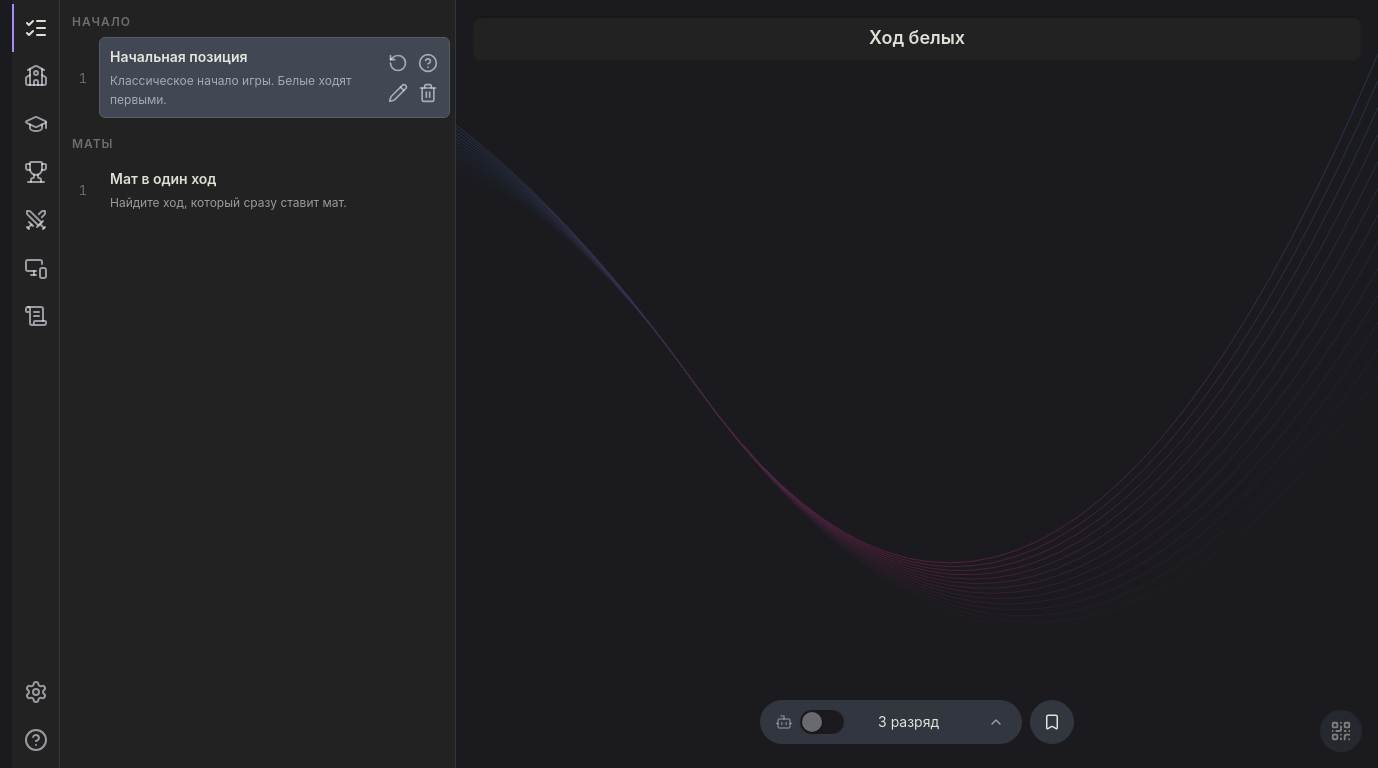
it: App › switches the left panel to the events tab
Check: the button "Мат в один ход Найдите ход, который сразу ставит мат." is shown, box [99, 159, 450, 221]
Click the button named "События".
click(36, 316)  # box [12, 292, 60, 340]
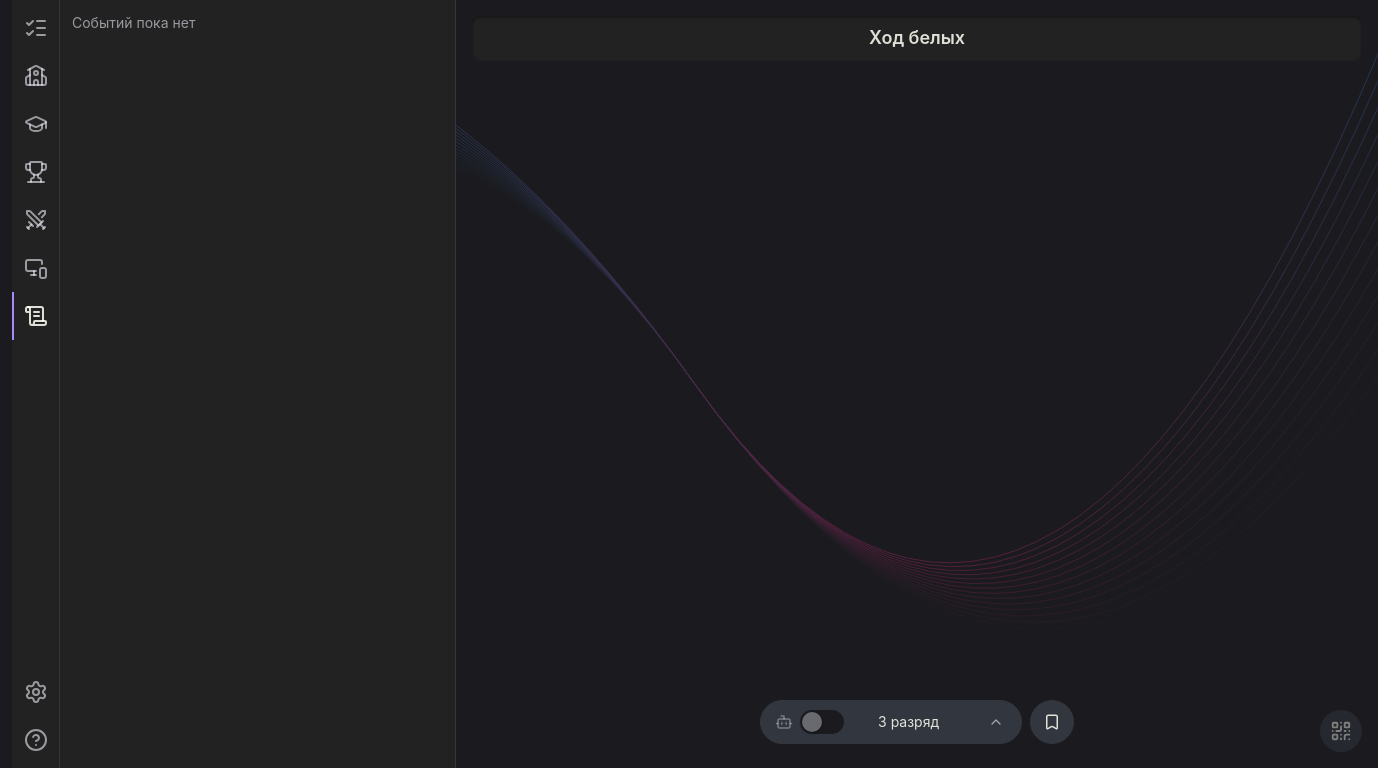
Check: the button "Мат в один ход" is gone
Check: the element with class "events-panel" is shown, box [72, 14, 195, 31]
